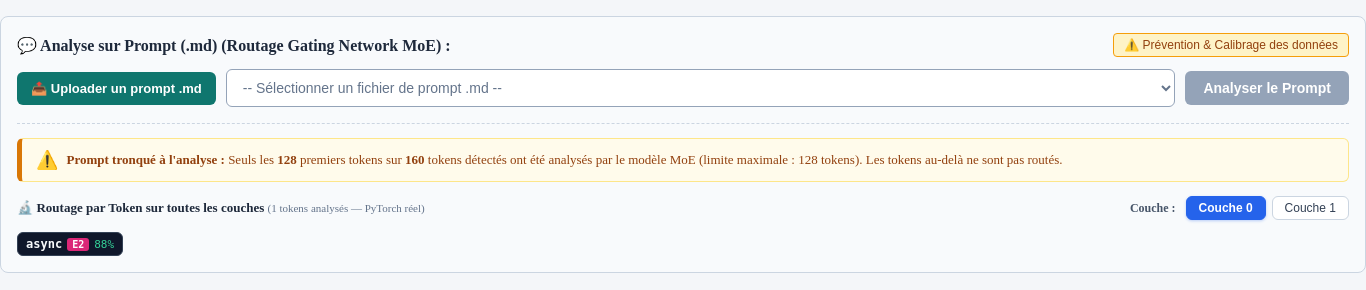
Test: PromptAnalyzer Component › renders token routing with all layers and truncation warning when props are provided
The image size is (1366, 290).
Check: the message with test id "truncation-warning" shows "128 premiers tokens sur 160 tokens", box [17, 138, 1349, 182]
Check: the element with test id "token-routing-visualizer" is shown, box [17, 123, 1349, 256]
# Change layer to 1 via badge
Click the button with test id "layer-tab-1": (1310, 208) [1272, 196, 1349, 220]
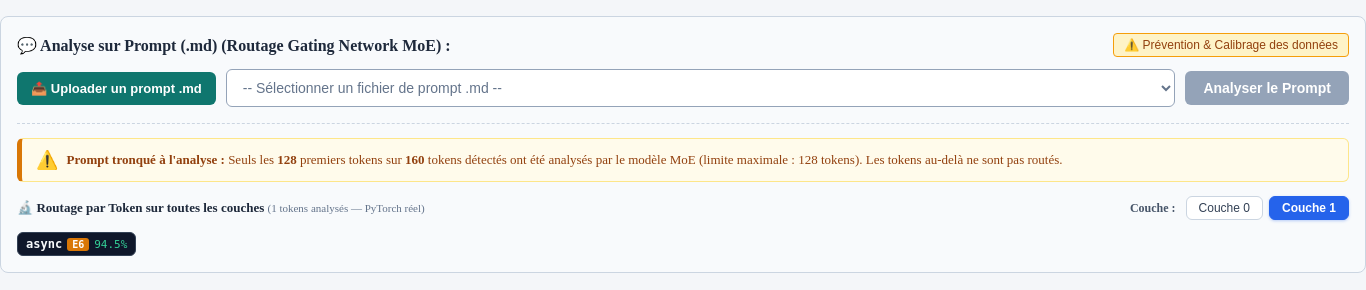
Check: the text "E6" is shown, box [67, 238, 89, 250]
Check: the text "94.5%" is shown, box [94, 238, 127, 250]
